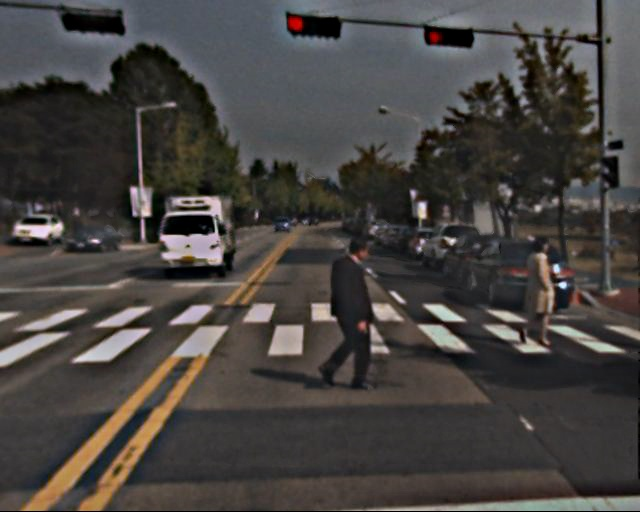person: (317, 235, 381, 390), (515, 237, 561, 348)
